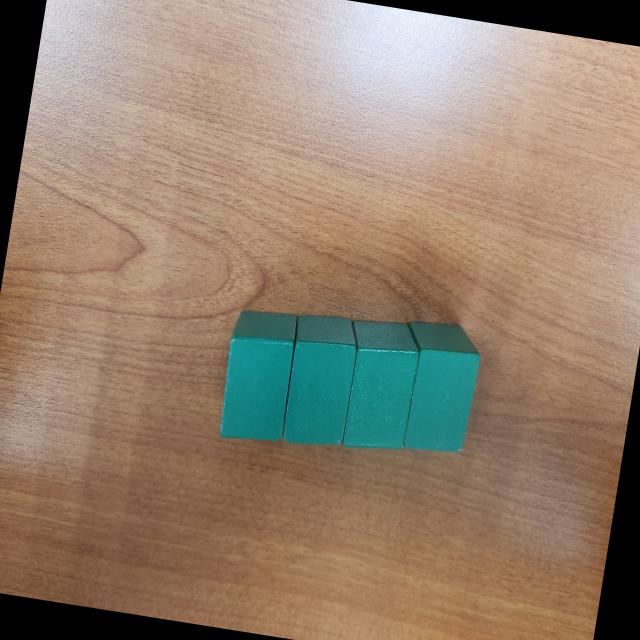green: (386, 319, 484, 461), (332, 314, 423, 456), (215, 304, 302, 447), (278, 309, 362, 453)
